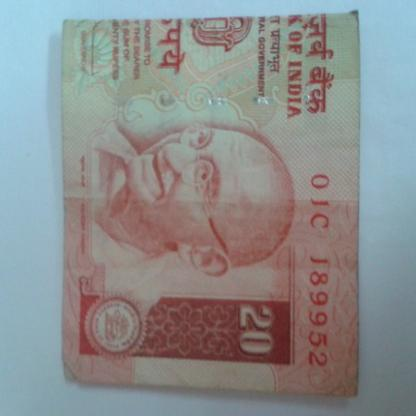Old20Front: (66, 20, 360, 387)
